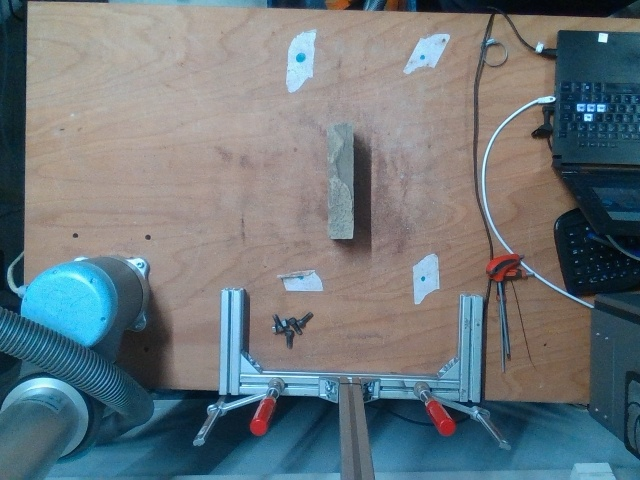brick-side: (329, 123, 354, 238)
